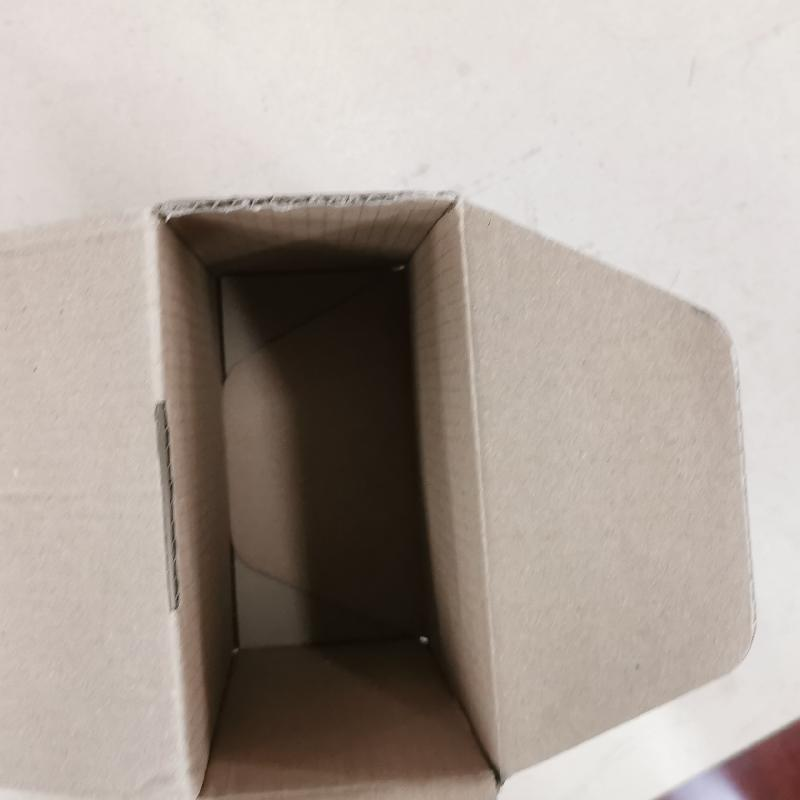boxes: (11, 189, 763, 800)
